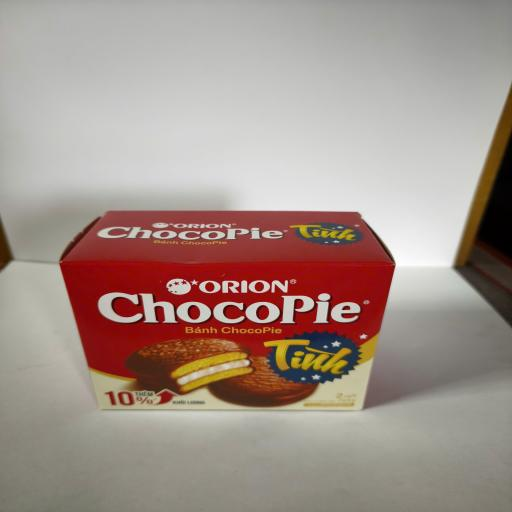chocopie: (58, 210, 397, 412)
